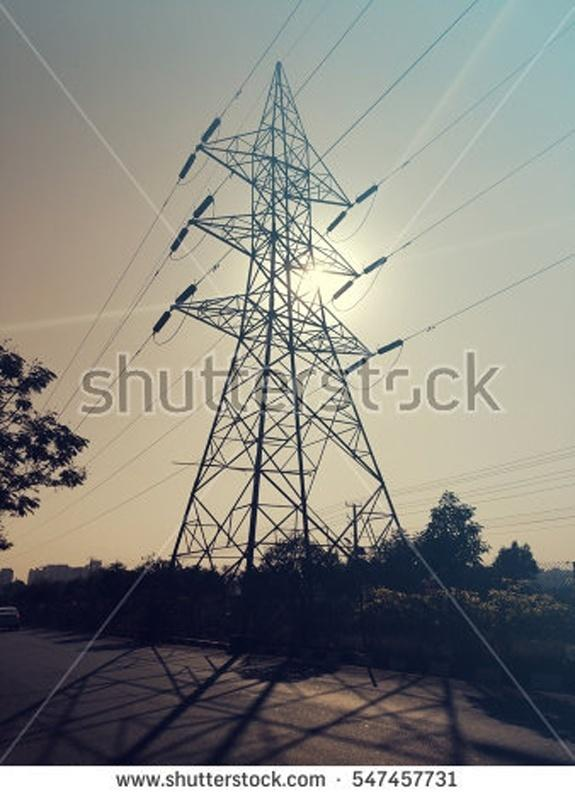power_tower: (144, 54, 430, 646)
